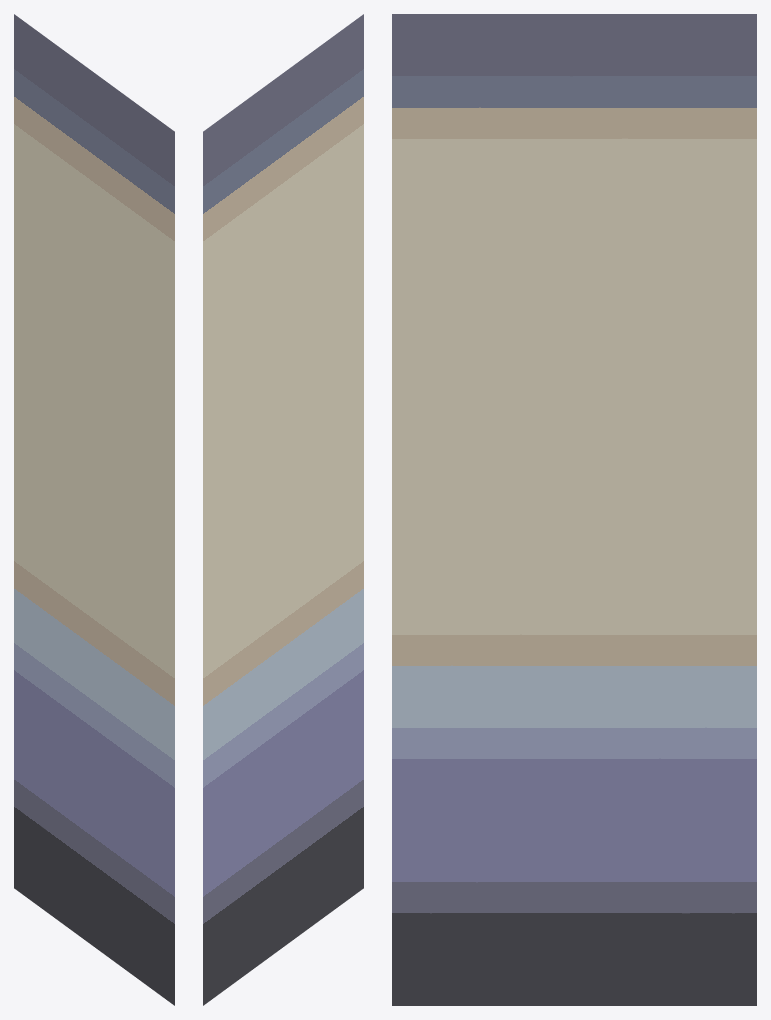
The picture shows the model from 3 angles, left to right: view 1: azimuth 30°, elevation 25°; view 2: azimuth 150°, elevation 25°; view 3: azimuth 270°, elevation 25°; orthographic projection. The views are drawn at different scales.
Size of the model in its own units: 0 by 3 by 1.
Materials: 1 (1 with a texture image).
